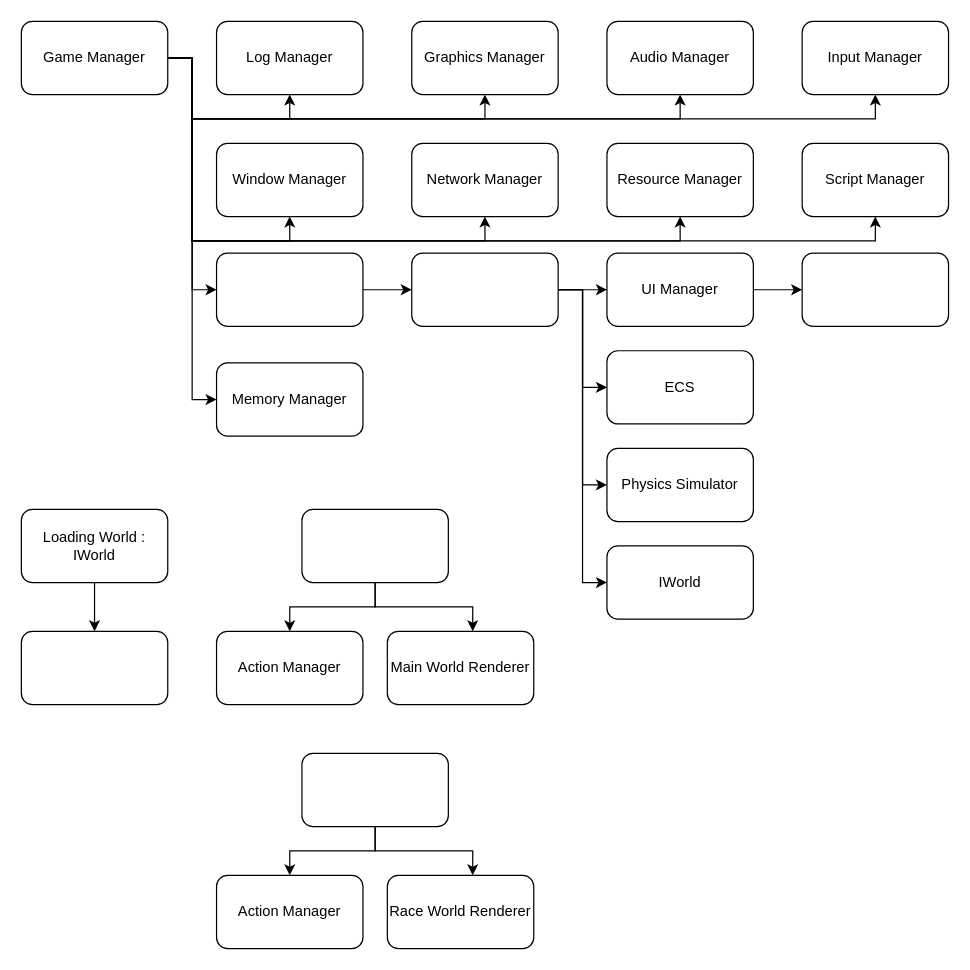
Image size: 970x970. Some labels were removed from this diagram. Here are the shapes that lost their labels. From the top down, the box of each, then its label:
(215, 252, 363, 326): Scene Manager
(411, 252, 558, 326): Scene
(801, 252, 949, 326): UI Renderer
(301, 508, 448, 583): Main World : IWorld
(20, 630, 168, 705): Loading World Renderer
(301, 752, 448, 827): Race World : IWorld
